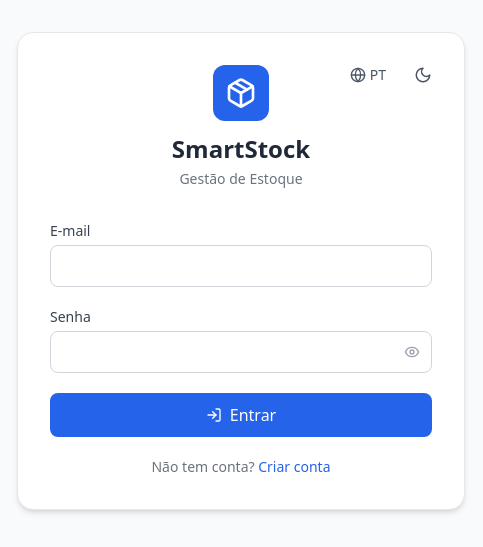
Test case: LoginPage › deve exibir selecao de empresa quando login retorna multiplas empresas
Type "maria@empresa.com" into the field.
click(241, 266); type("maria@empresa.com")  # box [50, 245, 432, 287]
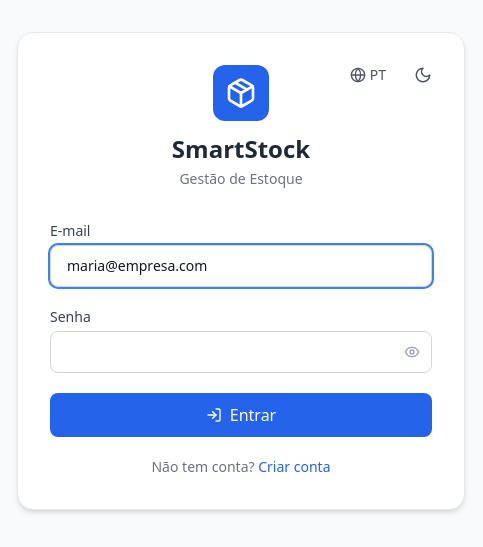
Type "senha123" into the password field.
click(241, 352); type("senha123")  # box [50, 331, 432, 373]
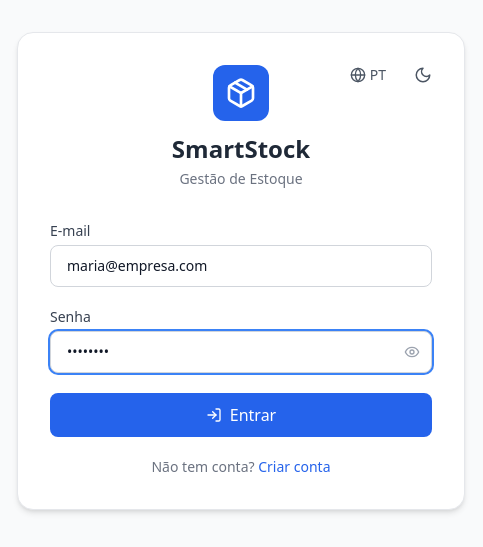
Click the button "Entrar".
click(241, 415)  # box [50, 393, 432, 437]
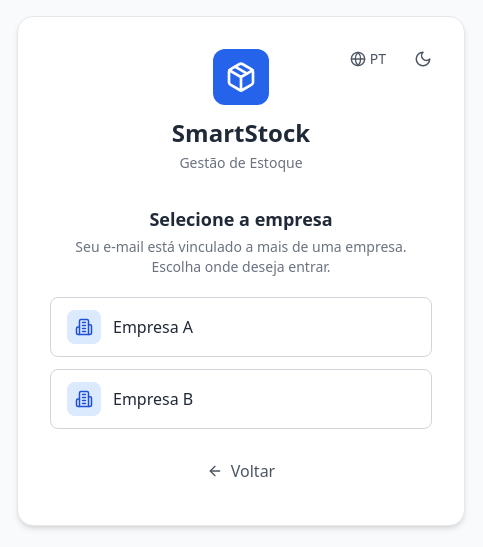
expect the heading "Selecione a empresa" is shown: met, box [149, 207, 333, 231]
expect the text "Empresa A" is shown: met, box [113, 315, 193, 339]
expect the text "Empresa B" is shown: met, box [113, 387, 193, 411]
